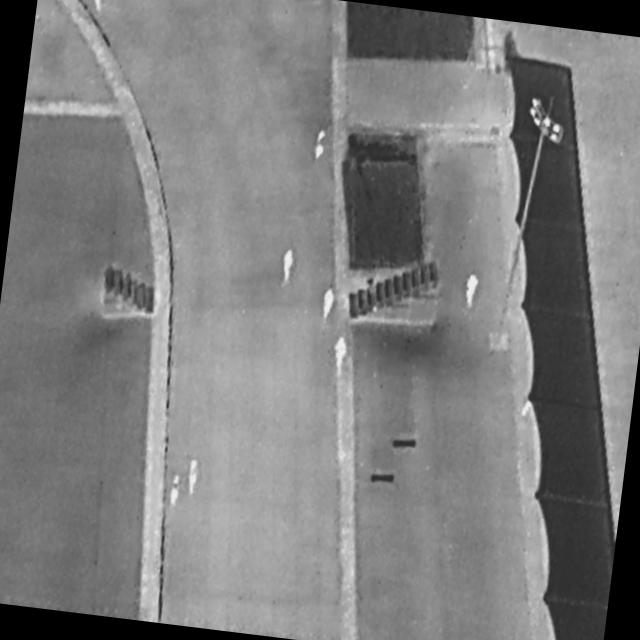person: (318, 284, 338, 325), (332, 331, 350, 376), (463, 270, 481, 311), (281, 248, 297, 285), (185, 460, 201, 495), (315, 129, 328, 161), (170, 475, 182, 505), (86, 1, 110, 12)
